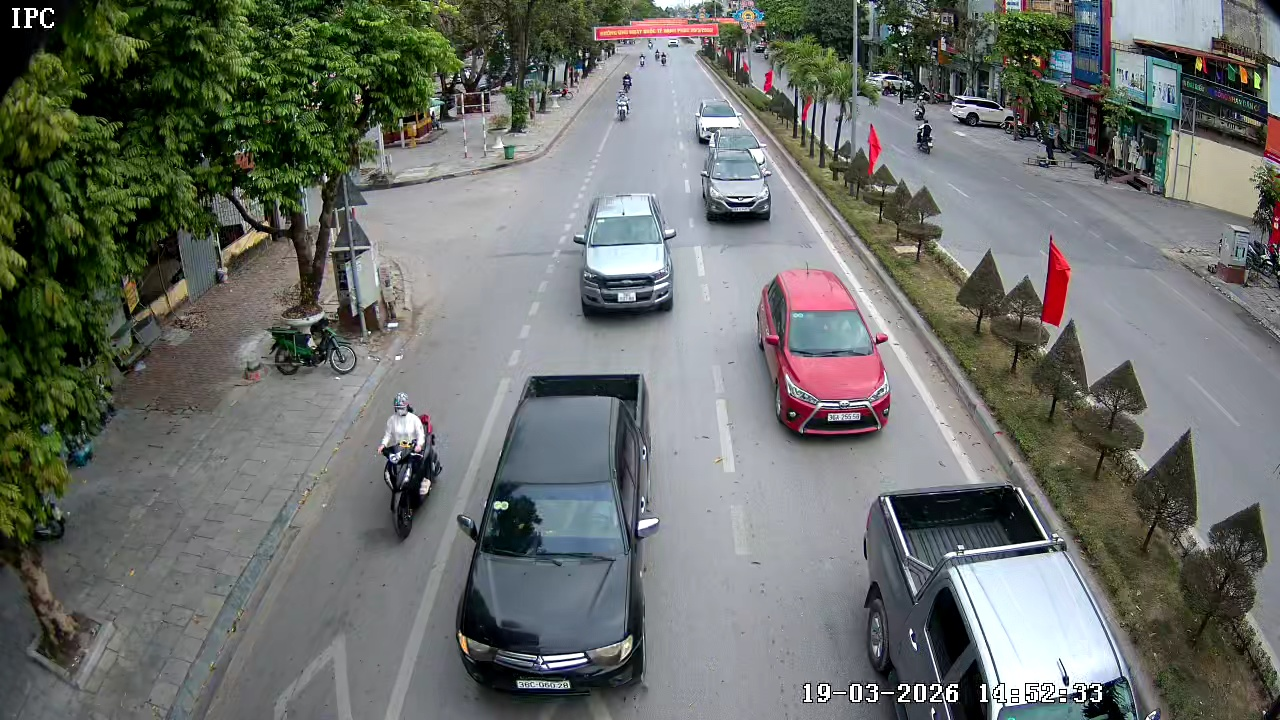car: (856, 486, 1147, 719), (456, 371, 659, 695), (755, 269, 891, 436), (573, 193, 678, 317), (699, 148, 773, 222), (693, 99, 742, 146)
motorbike: (376, 392, 442, 539), (268, 316, 363, 375), (611, 87, 635, 126), (619, 71, 637, 92)
